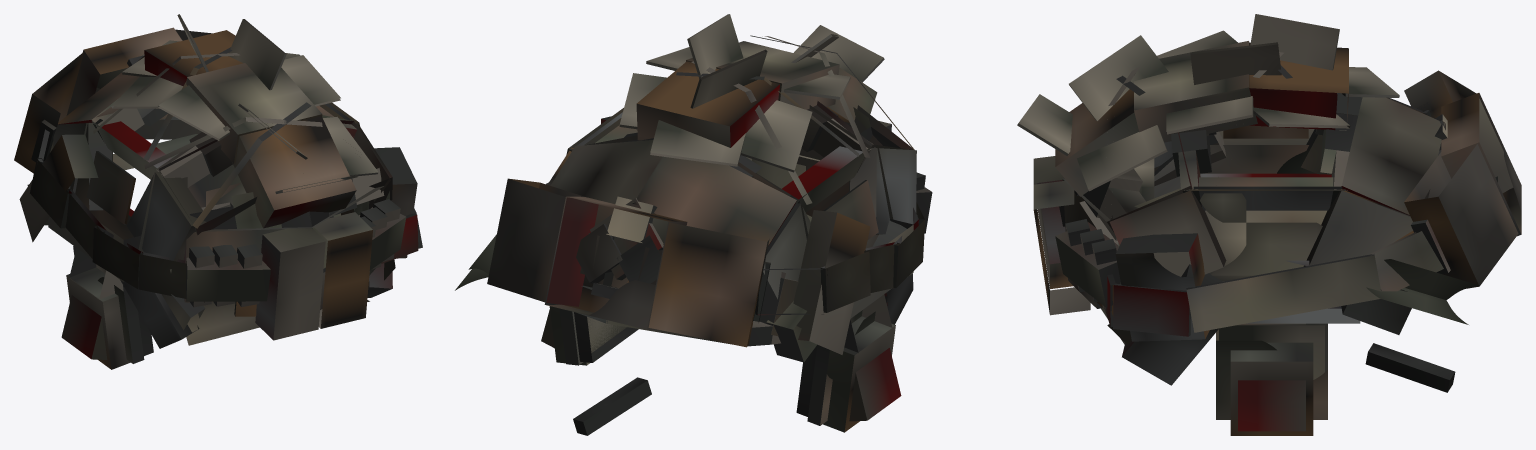
The model's file is concord_h.obj.
The picture shows the model from 3 angles, left to right: view 1: azimuth 30°, elevation 25°; view 2: azimuth 150°, elevation 25°; view 3: azimuth 270°, elevation 25°; orthographic projection. The views are drawn at different scales.
Visible parts, largest first — view 1: cuboid; view 2: cuboid; view 3: cuboid.
Boxes of the visible parts, x1,y1,x2,y2 form: cuboid: (14,14,422,369); cuboid: (455,14,932,435); cuboid: (1017,14,1521,435).
Bounding box in the file's own units: 0.8255 × 0.802 × 1.1.
